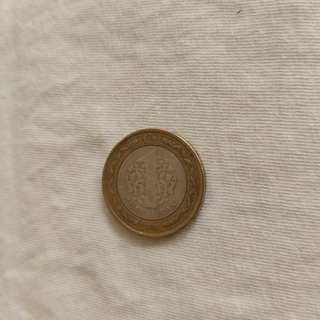1TL: (99, 126, 207, 240)
